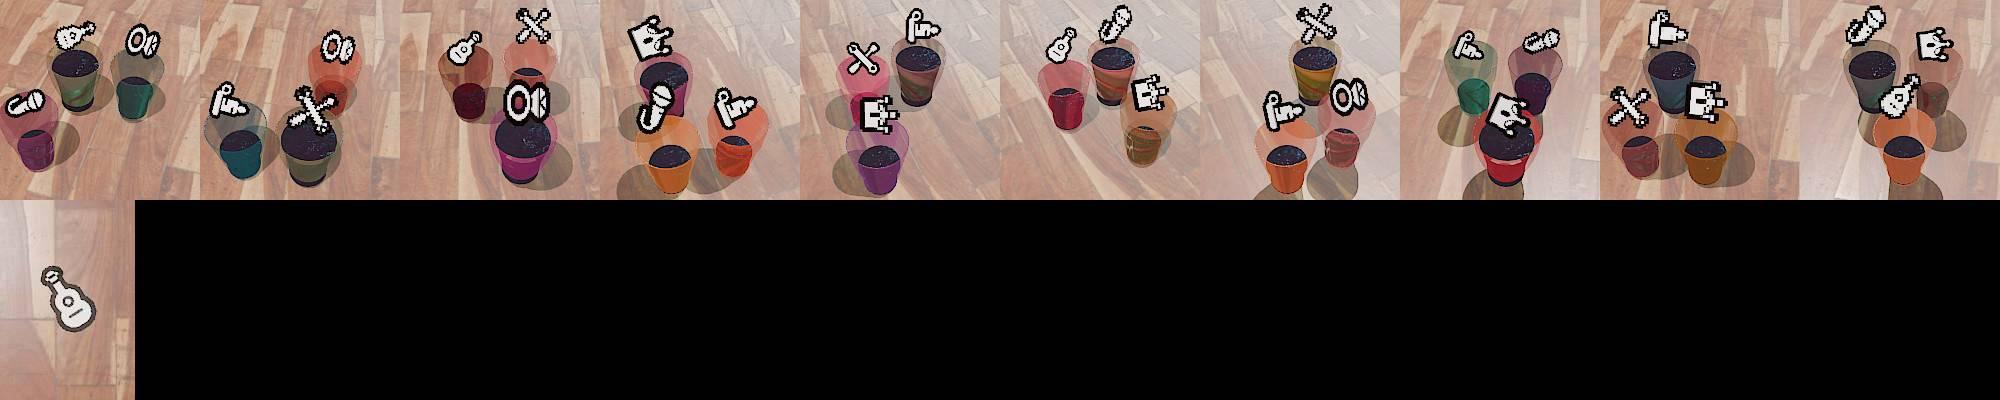icon: (40, 265, 96, 330), (635, 78, 679, 134), (626, 14, 676, 62), (290, 83, 335, 134), (1485, 90, 1533, 138), (1879, 70, 1926, 118), (504, 79, 548, 125), (1607, 84, 1653, 127), (1263, 87, 1306, 131), (1685, 79, 1730, 122), (714, 87, 759, 130), (857, 92, 902, 134), (1844, 5, 1888, 46), (1296, 3, 1337, 43), (1648, 8, 1689, 48), (1329, 75, 1370, 116), (209, 79, 250, 120), (1130, 73, 1170, 113), (1915, 25, 1957, 62), (515, 6, 554, 45), (54, 20, 97, 54), (904, 8, 941, 45), (446, 29, 483, 66), (846, 41, 881, 79), (1098, 4, 1133, 43), (124, 23, 161, 59), (1045, 25, 1077, 66), (320, 31, 357, 65), (1449, 29, 1485, 62), (5, 89, 46, 117), (1522, 28, 1561, 54)
